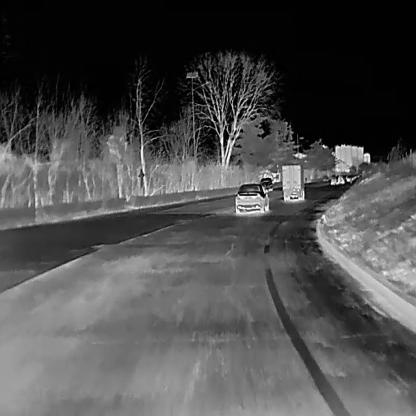car: (234, 182, 268, 213), (260, 176, 272, 192), (336, 174, 344, 184), (330, 176, 336, 184)
truck: (280, 162, 307, 200)
